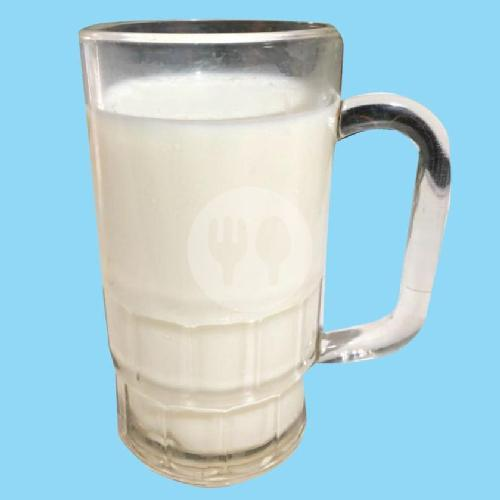produk_susu: (119, 29, 305, 448)
